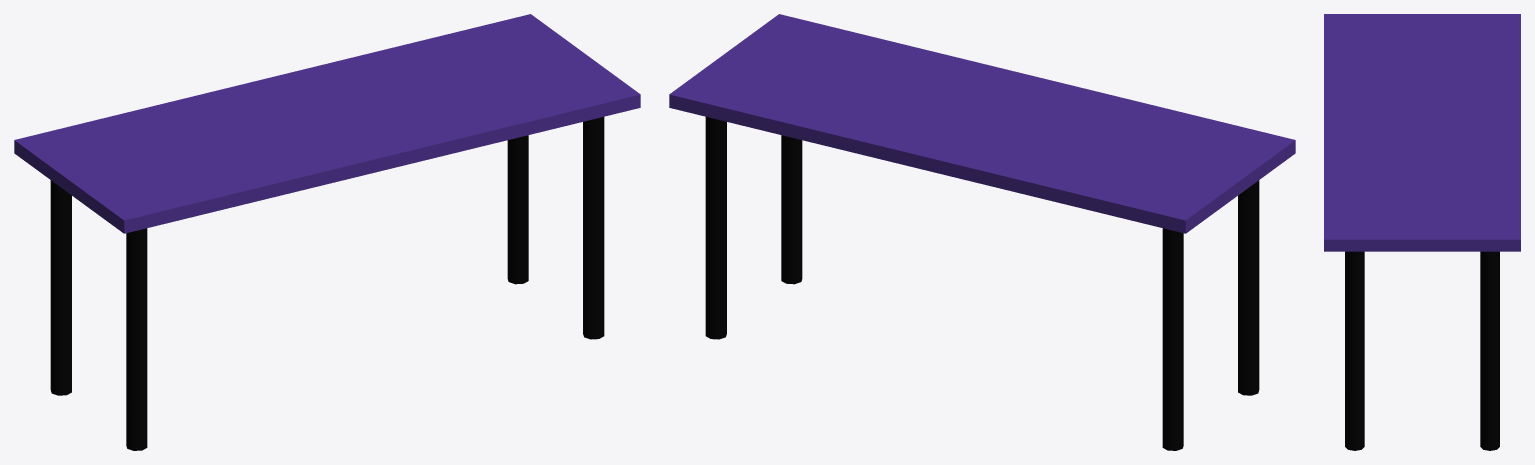
File: table2.fbx
The picture shows the model from 3 angles, left to right: view 1: azimuth 30°, elevation 25°; view 2: azimuth 150°, elevation 25°; view 3: azimuth 270°, elevation 25°; orthographic projection. The views are drawn at different scales.
Visible parts, largest first — view 1: table2; view 2: table2; view 3: table2.
Part boxes in pixels (x1=…): table2: x1=14, y1=14, x2=640, y2=450; table2: x1=669, y1=14, x2=1295, y2=450; table2: x1=1324, y1=14, x2=1520, y2=450.
Bounding box in the file's own units: 163 × 74 × 60.
